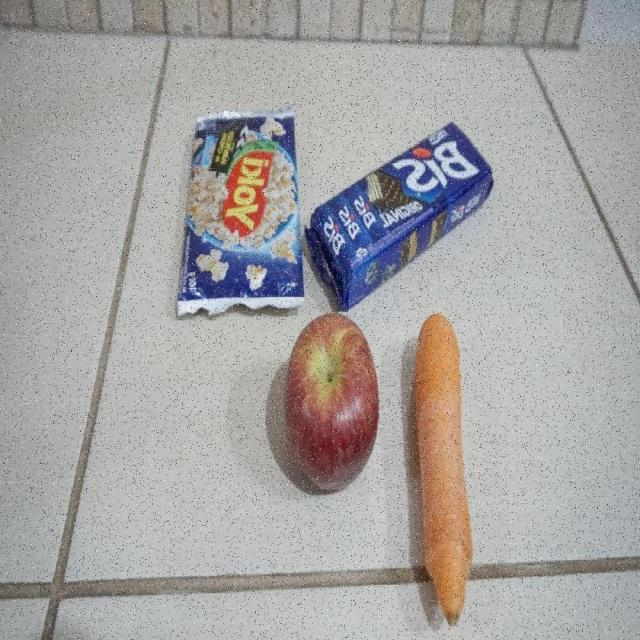Apple: (282, 311, 382, 493)
Carrot: (411, 312, 473, 630)
Popcorn: (174, 100, 305, 318)
